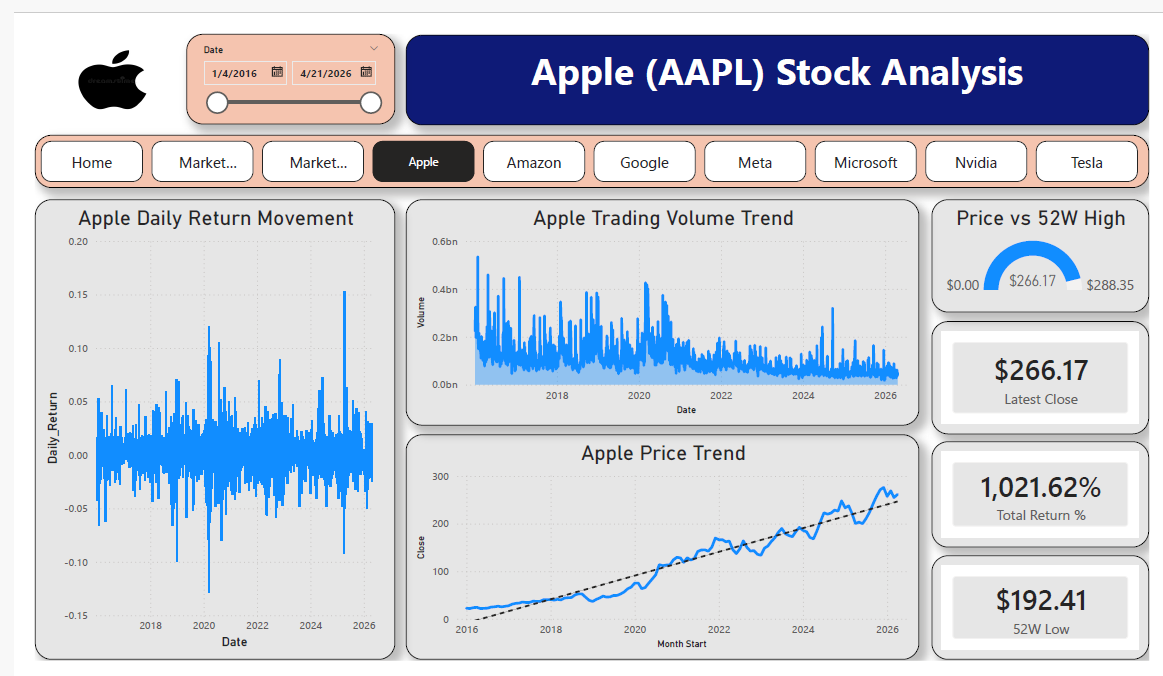

The page's visual inventory and layout, read from the dashboard file:
{"tool":"powerbi","page":{"name":"Apple","canvas":[1280,720],"ordinal":3},"visuals":[{"type":"image","box":[15,0,148.8,105],"z":0},{"type":"textbox","box":[426.2,1.2,853.8,103.8],"z":1000},{"type":"slicer","fields":{"Values":["DateTable.Date"]},"box":[173.8,0,240,103.8],"z":2000},{"type":"pageNavigator","box":[0,115.7,1280,61.4],"z":3000},{"type":"cardVisual","title":"Price vs 52W High","fields":{"Data":["mag7_powerbi_ready.Latest Close"]},"box":[1029.9,329.7,250.3,130.1],"z":4000},{"type":"cardVisual","fields":{"Data":["mag7_powerbi_ready.Total Return %"]},"box":[1029.9,468.5,250.3,121.5],"z":5000},{"type":"gauge","title":"Price vs 52W High","fields":{"MaxValue":["mag7_powerbi_ready.52W High"],"Y":["mag7_powerbi_ready.Latest Close"]},"box":[1029.9,189.6,250.3,130.1],"z":6000},{"type":"cardVisual","fields":{"Data":["mag7_powerbi_ready.52W Low"]},"box":[1029.9,598.6,250.3,120.2],"z":7000},{"type":"lineChart","title":"Apple Price Trend ","fields":{"Y":["Avg(mag7_powerbi_ready.Close)"],"Category":["mag7_powerbi_ready.Month Start"]},"box":[426.2,460,590,258.8],"z":8000},{"type":"areaChart","title":"Apple Trading Volume Trend","fields":{"Y":["Avg(mag7_powerbi_ready.Volume)"],"Category":["DateTable.Date"]},"box":[425.7,190,590,260],"z":9000},{"type":"clusteredColumnChart","title":"Apple Daily Return Movement","fields":{"Y":["Avg(mag7_powerbi_ready.Daily_Return)"],"Category":["DateTable.Date"]},"box":[0,190,413.8,528.8],"z":10000}]}

Visuals, with their boxes on the page's 1280x720 design canvas (x1, y1, x2, y2). These are canvas units, not pixel positions in the 1163x676 screenshot, which may show the page scaled, cropped or inside an application window:
image: (x1=15, y1=0, x2=164, y2=105)
textbox: (x1=426, y1=1, x2=1280, y2=105)
slicer - DateTable.Date: (x1=174, y1=0, x2=414, y2=104)
pageNavigator: (x1=0, y1=116, x2=1280, y2=177)
"Price vs 52W High" cardVisual: (x1=1030, y1=330, x2=1280, y2=460)
cardVisual - mag7_powerbi_ready.Total Return %: (x1=1030, y1=468, x2=1280, y2=590)
"Price vs 52W High" gauge: (x1=1030, y1=190, x2=1280, y2=320)
cardVisual - mag7_powerbi_ready.52W Low: (x1=1030, y1=599, x2=1280, y2=719)
"Apple Price Trend " lineChart: (x1=426, y1=460, x2=1016, y2=719)
"Apple Trading Volume Trend" areaChart: (x1=426, y1=190, x2=1016, y2=450)
"Apple Daily Return Movement" clusteredColumnChart: (x1=0, y1=190, x2=414, y2=719)
